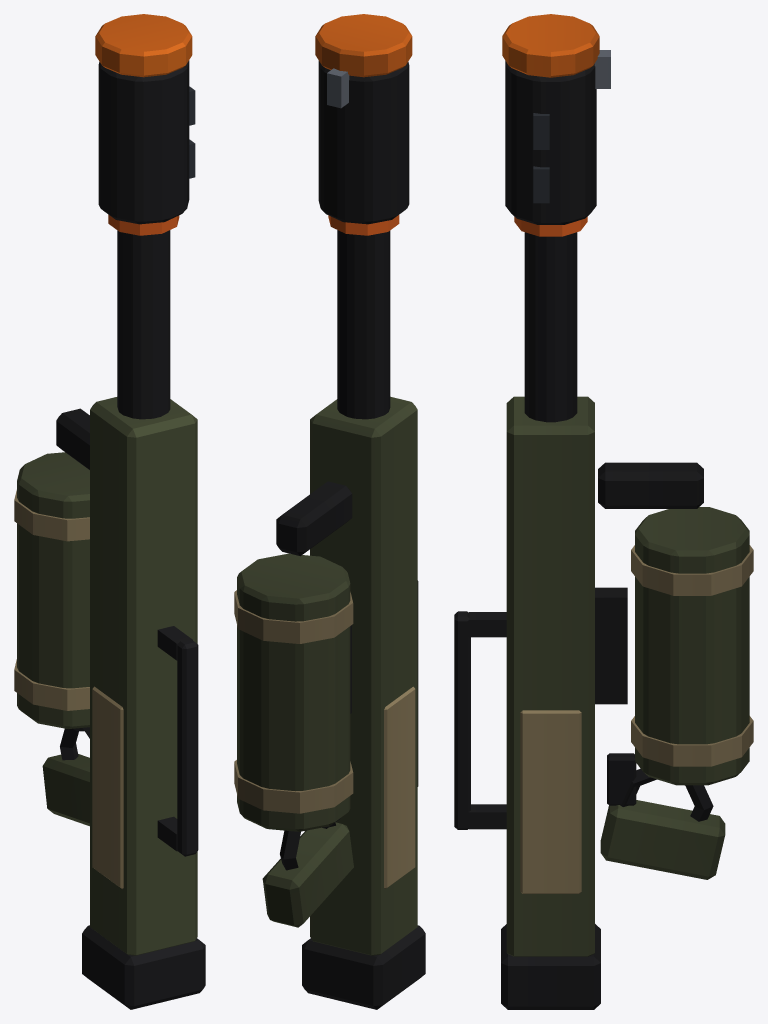
File: dragon.glb
The picture shows the model from 3 angles, left to right: view 1: azimuth 30°, elevation 25°; view 2: azimuth 150°, elevation 25°; view 3: azimuth 270°, elevation 25°; orthographic projection.
Parts seen in each view (by area): view 1: dragon; view 2: dragon; view 3: dragon.
Part boxes in pixels (x1,y1,x2,y2): dragon: (14, 14, 205, 1009); dragon: (234, 14, 425, 1009); dragon: (454, 14, 753, 1009).
Size of the model in its own units: 0.0989 by 0.899 by 0.254.
